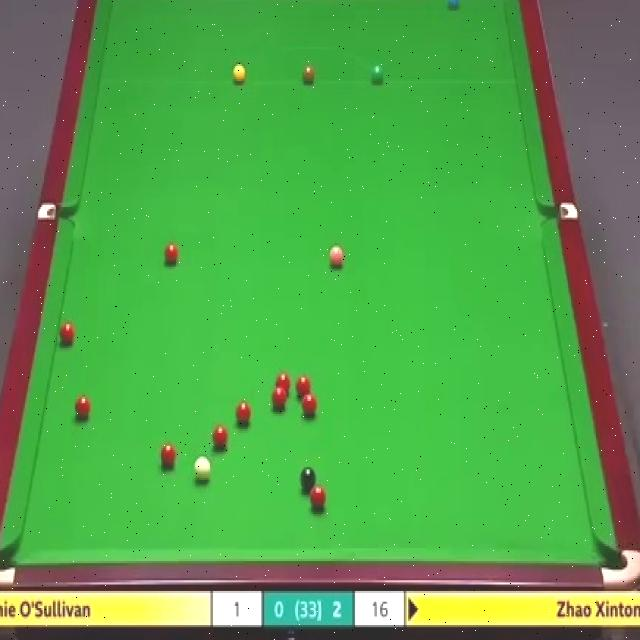black-ball: (300, 465, 318, 493)
blue-ball: (446, 0, 459, 11)
brown-ball: (302, 64, 316, 84)
green-ball: (369, 65, 384, 84)
pink-ball: (328, 244, 346, 270)
red-ball: (160, 441, 179, 472), (161, 242, 180, 272), (59, 323, 76, 350), (75, 393, 92, 420), (211, 426, 227, 453), (235, 399, 251, 425), (310, 486, 327, 510), (272, 388, 289, 411), (296, 375, 312, 398), (275, 372, 291, 393), (301, 392, 315, 414)
white-ball: (193, 457, 212, 484)
yellow-ball: (232, 64, 246, 84)
